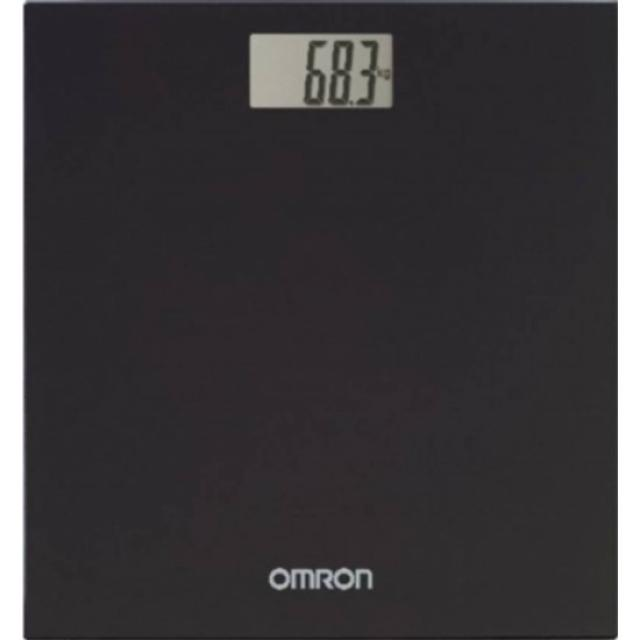.: (357, 35, 379, 108), (348, 97, 354, 108)
6: (300, 34, 331, 108)
8: (329, 34, 350, 108)
screen: (249, 35, 401, 111)
